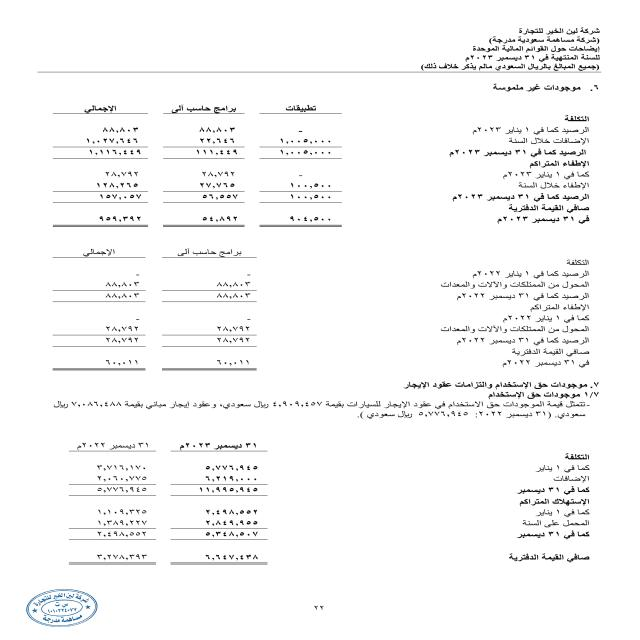notes: (462, 45, 608, 53)
table: (43, 94, 349, 232), (33, 243, 283, 386), (56, 428, 288, 574)
